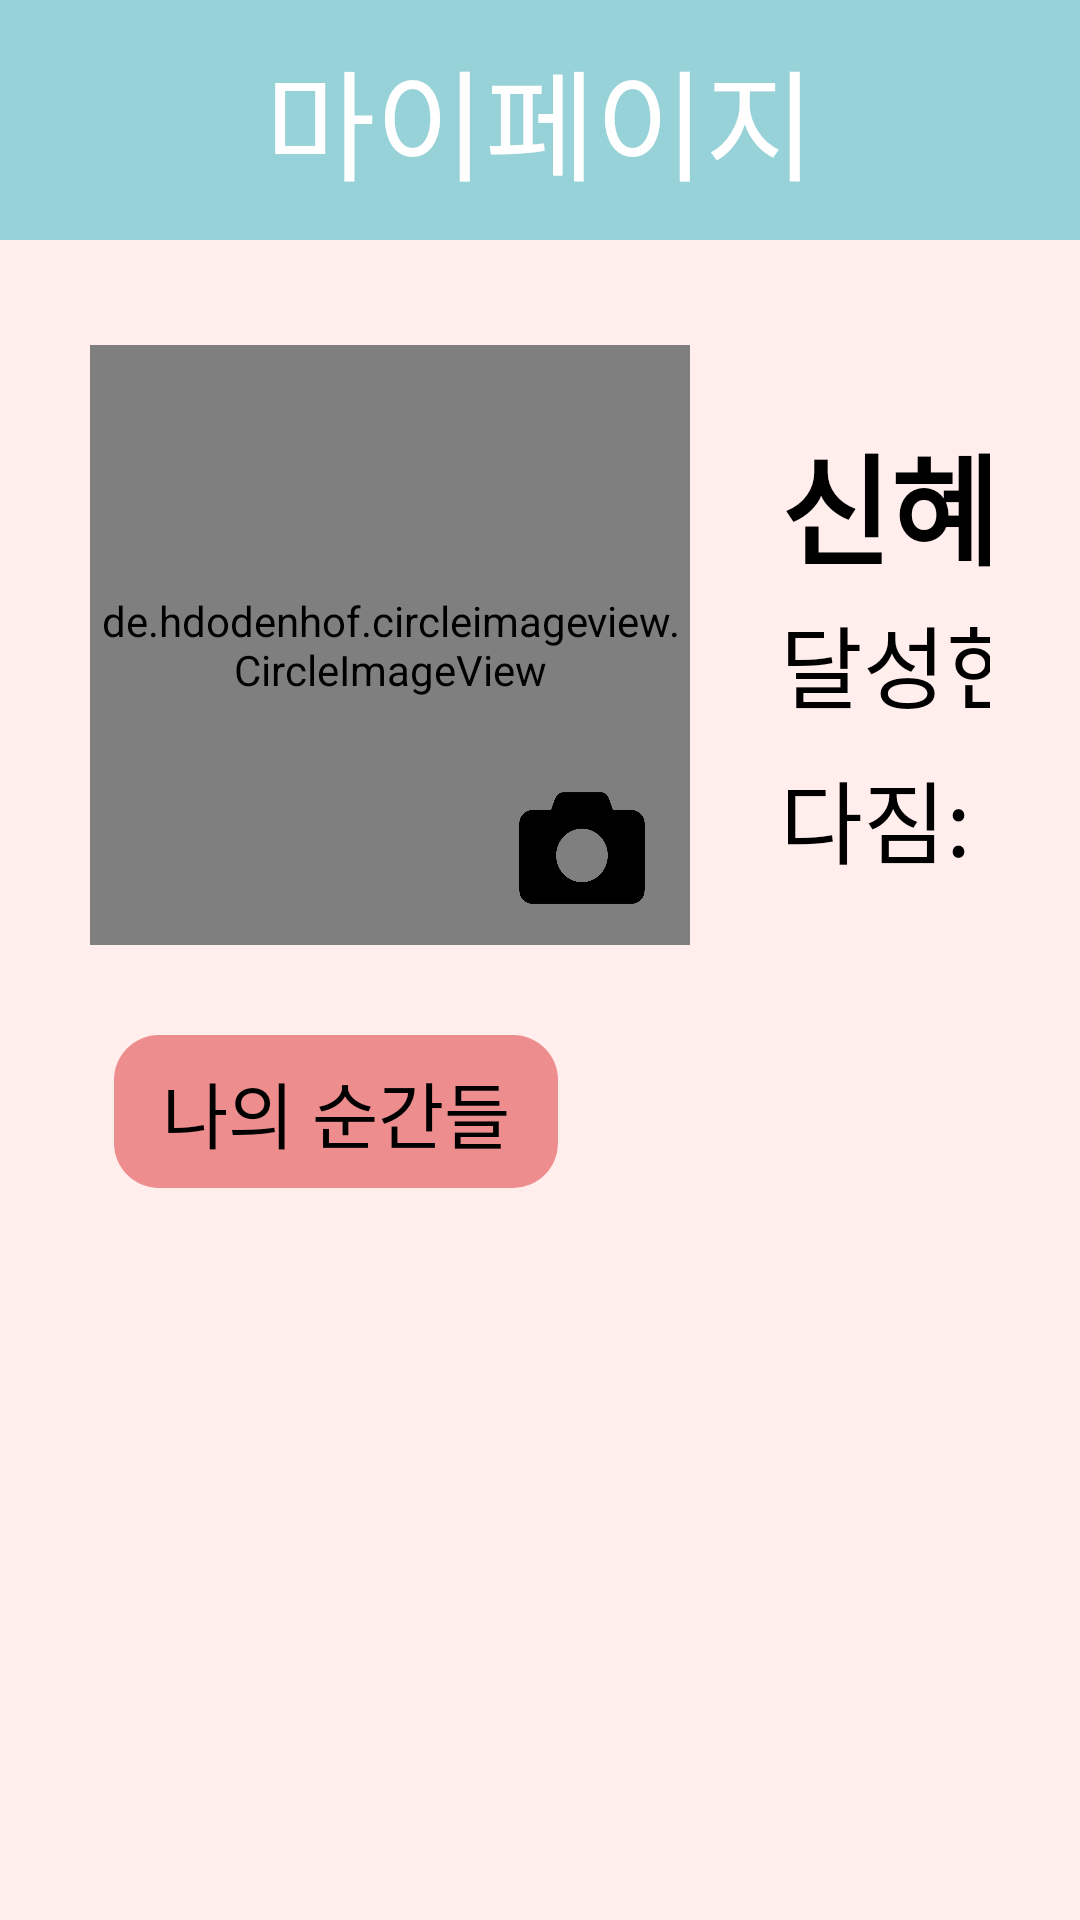

Icon bounding boxes for this 1080x1920 phone screenshot, format [left=x1, top=y1, right=x2, bottom=y2]:
camera: [left=519, top=792, right=645, bottom=904]
